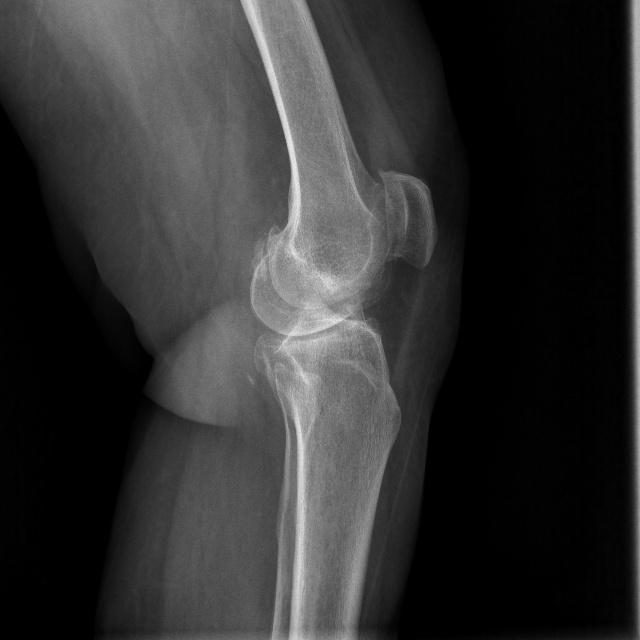Knee: (245, 164, 438, 409)
